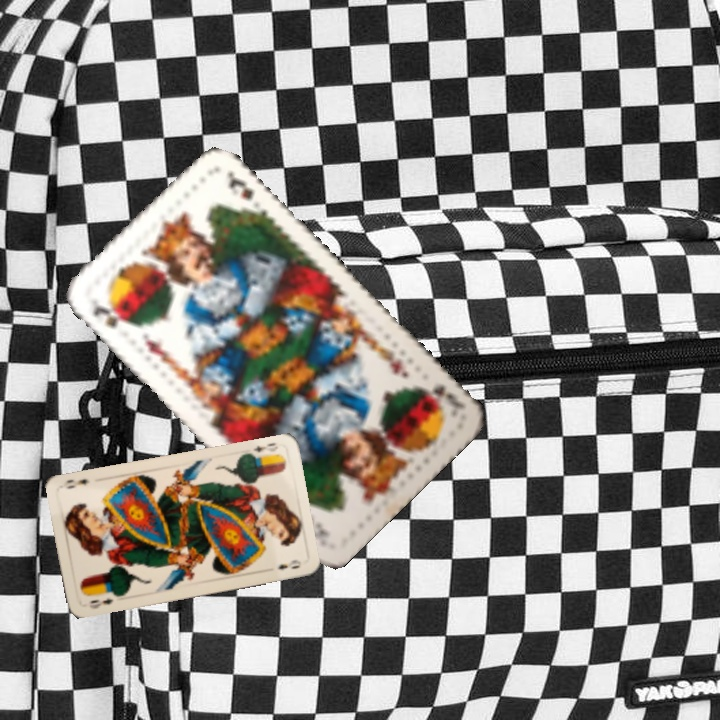EO: (244, 439, 280, 460), (85, 593, 116, 611)
SK: (87, 294, 132, 332), (415, 380, 466, 408)
